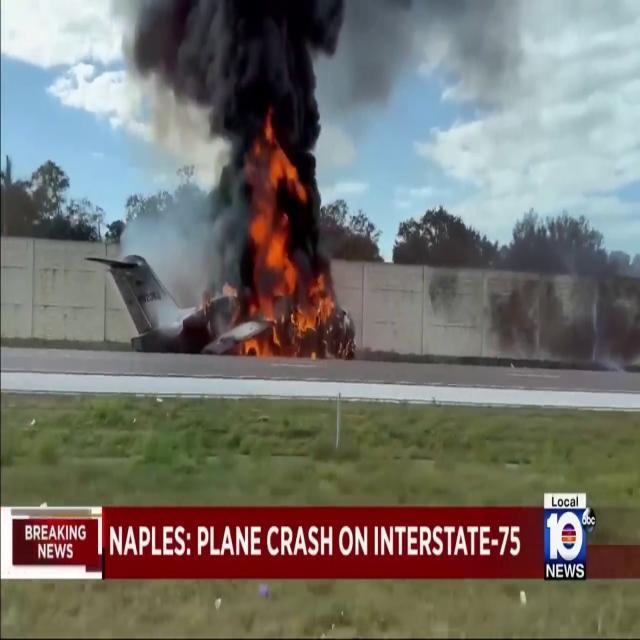Fire: (243, 144, 341, 358)
Smoke: (136, 0, 344, 268)
